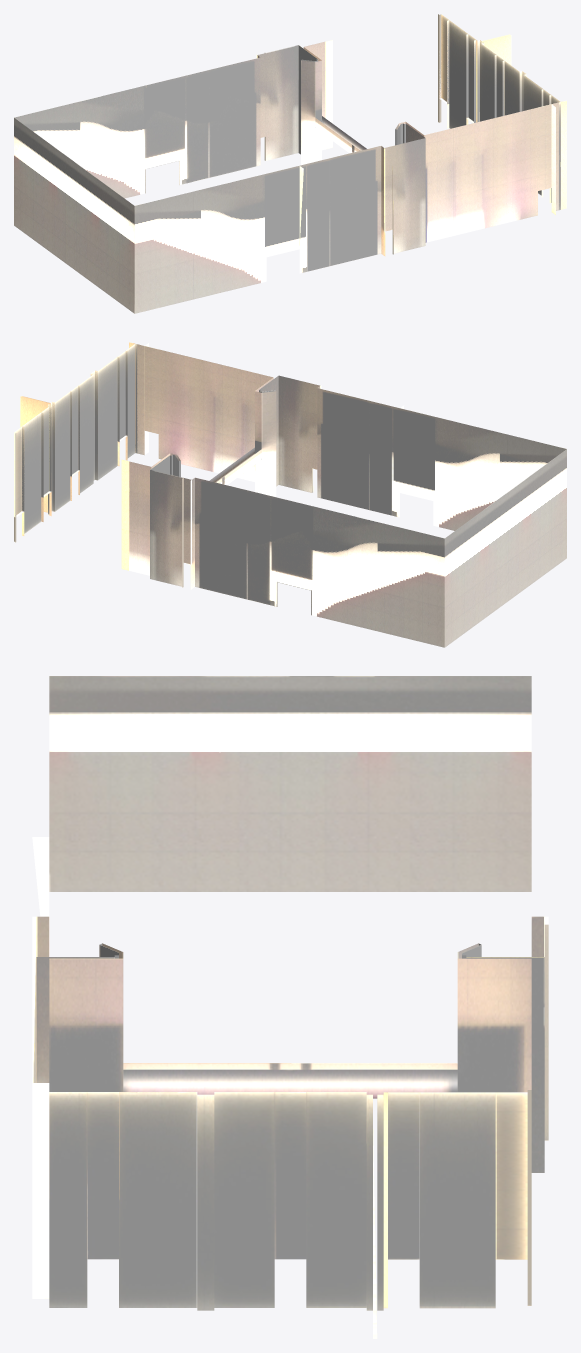
The picture shows the model from 3 angles, top to bottom: view 1: azimuth 30°, elevation 25°; view 2: azimuth 150°, elevation 25°; view 3: azimuth 270°, elevation 25°; orthographic projection. The views are drawn at different scales.
Parts seen in each view (by area): view 1: 室内-二层墙体Part1; view 2: 室内-二层墙体Part1; view 3: 室内-二层墙体Part1.
Boxes of the visible parts, x1=… form: 室内-二层墙体Part1: x1=14, y1=14, x2=566, y2=313; 室内-二层墙体Part1: x1=14, y1=342, x2=566, y2=647; 室内-二层墙体Part1: x1=32, y1=676, x2=548, y2=1338.
Size of the model in its own units: 49.95 by 11.26 by 24.4.
